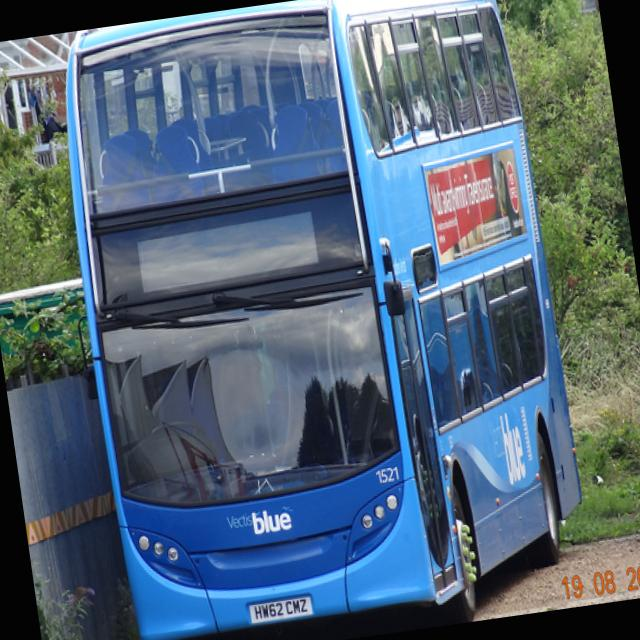Vehicle: (44, 0, 600, 640)
